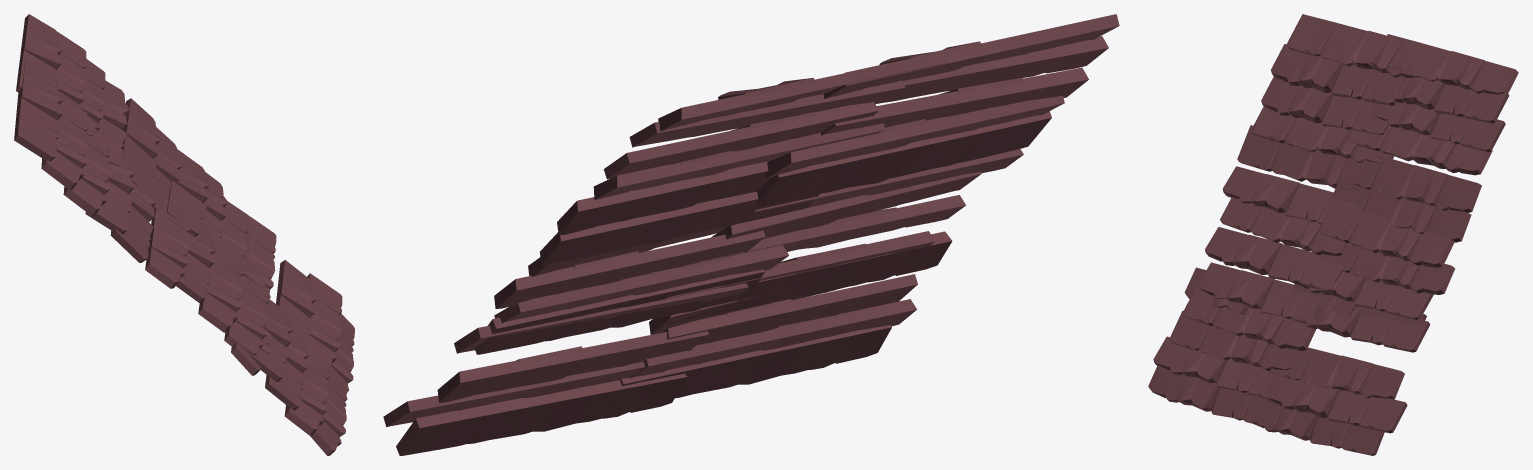
File: RedTopBackRoof.fbx
3 views of the same model, side by side, from view 1: azimuth 30°, elevation 25°; view 2: azimuth 150°, elevation 25°; view 3: azimuth 270°, elevation 25° (orthographic). The views are drawn at different scales.
Visible parts, largest first — view 1: RedTopBackRoof_Merged; view 2: RedTopBackRoof_Merged; view 3: RedTopBackRoof_Merged.
Part boxes in pixels (left/top/right/bottom): RedTopBackRoof_Merged: left=14, top=14, right=354, bottom=455; RedTopBackRoof_Merged: left=383, top=14, right=1119, bottom=455; RedTopBackRoof_Merged: left=1148, top=14, right=1518, bottom=455.
Size of the model in its own units: 694 by 567 by 663.
